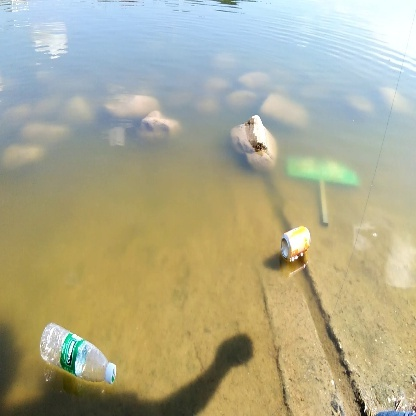bottle: (36, 317, 120, 390), (275, 220, 319, 268)
